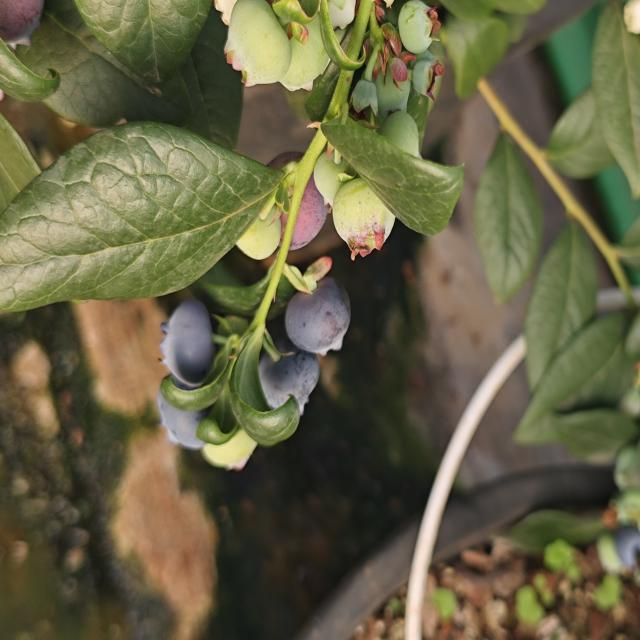ripe: (282, 274, 352, 358), (156, 297, 217, 391), (261, 346, 315, 402), (158, 394, 201, 451)
